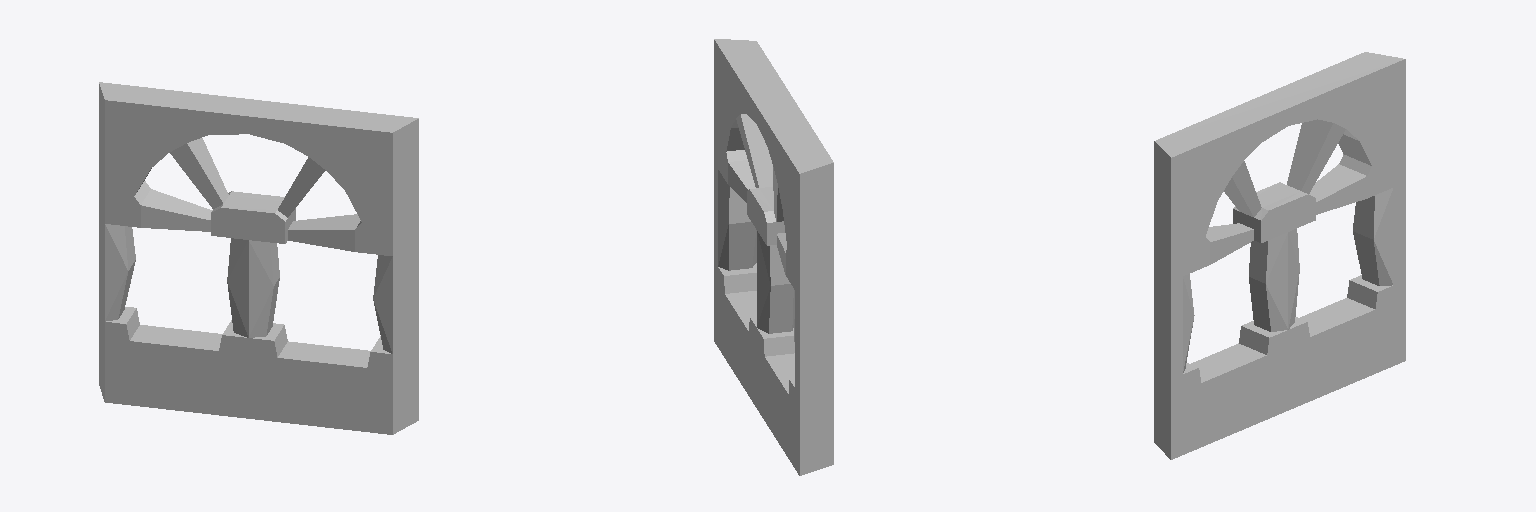
File: P_Modul_03_Wall01.obj
The picture shows the model from 3 angles: view 1: azimuth 30°, elevation 25°; view 2: azimuth 150°, elevation 25°; view 3: azimuth 270°, elevation 25°; orthographic projection.
Parts seen in each view (by area): view 1: P_Modul_03_Wall01; view 2: P_Modul_03_Wall01; view 3: P_Modul_03_Wall01.
Boxes of the visible parts, <box> form: P_Modul_03_Wall01: <box>99,82,418,434</box>; P_Modul_03_Wall01: <box>714,39,833,475</box>; P_Modul_03_Wall01: <box>1154,52,1405,459</box>.
Size of the model in its own units: 5.47 by 7.28 by 5.48.